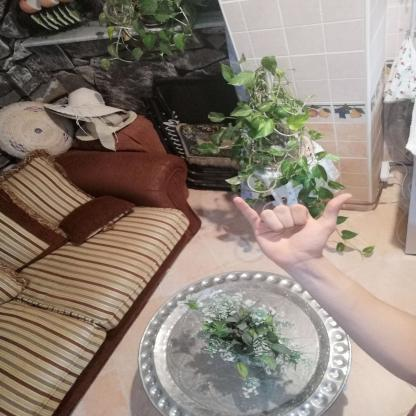YA: (220, 188, 369, 272)
